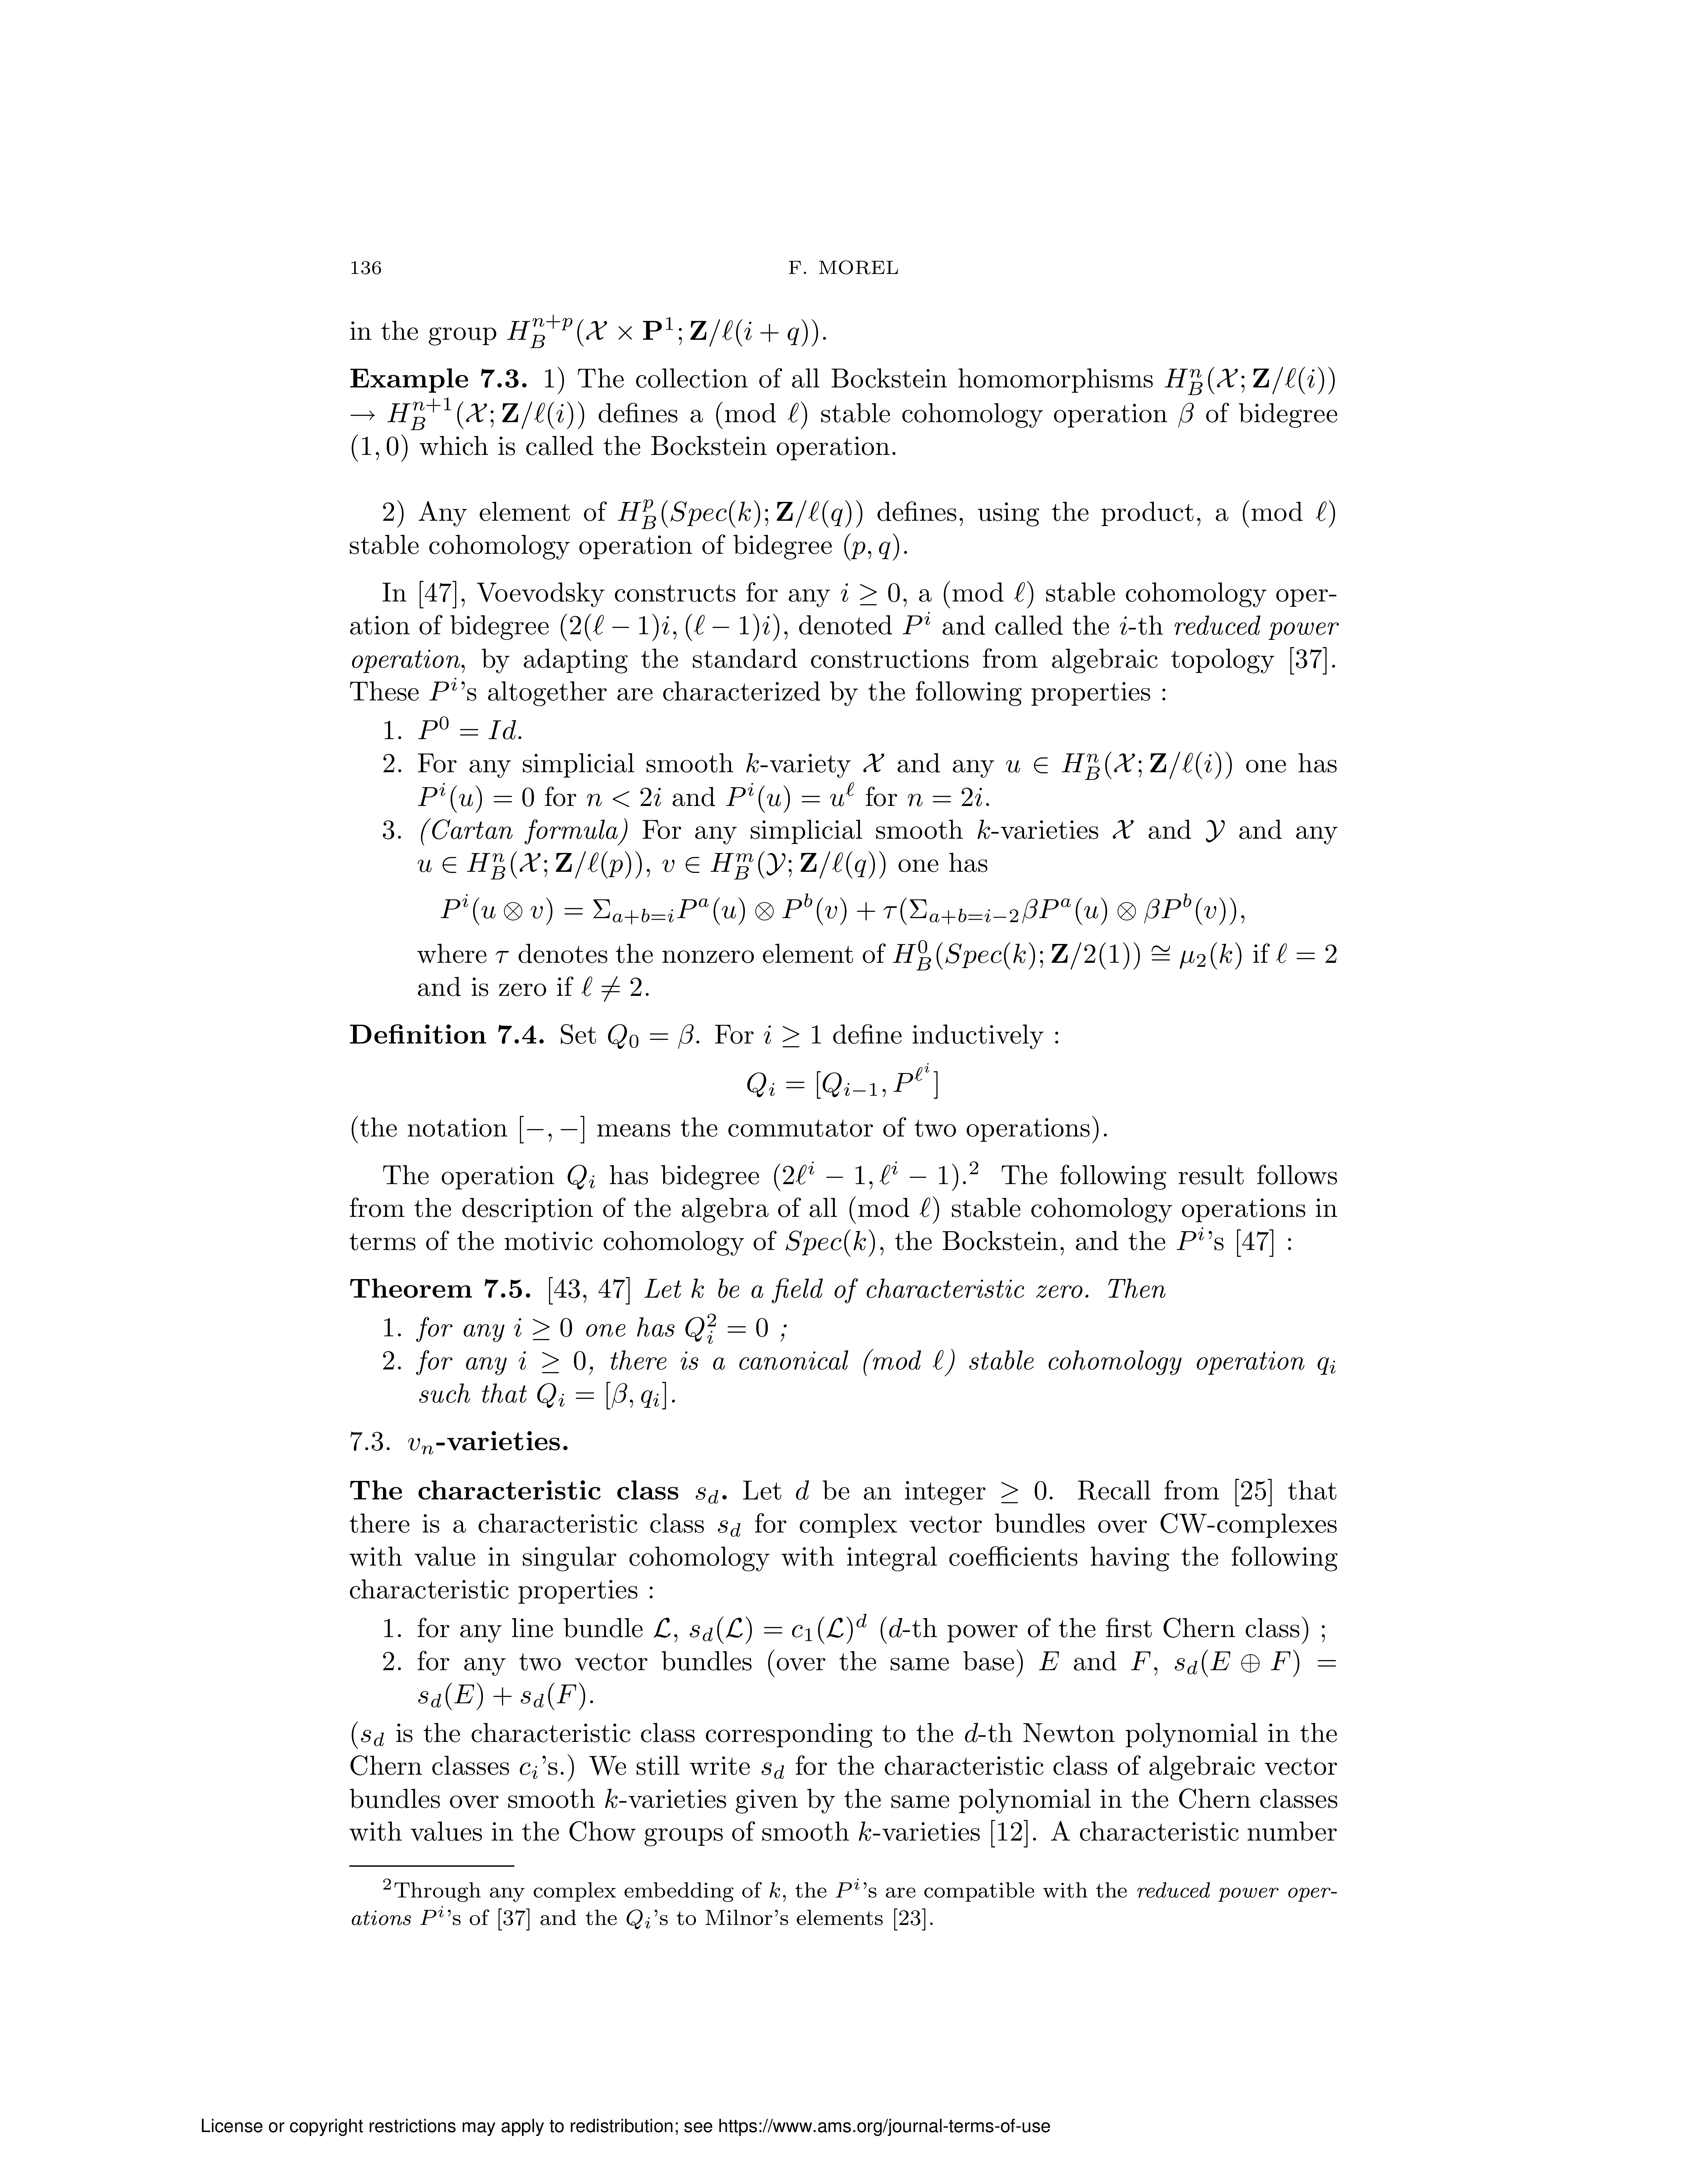expr: (321, 363, 1021, 436), (427, 911, 929, 1012), (645, 546, 1088, 620), (691, 1594, 1038, 1677), (222, 1283, 553, 1369), (402, 1131, 748, 1200), (152, 723, 468, 789), (250, 574, 620, 608), (820, 1686, 1219, 1712), (820, 1131, 952, 1200), (760, 1074, 1022, 1106), (519, 468, 744, 496), (331, 688, 548, 716), (1026, 1411, 1217, 1443), (1019, 1241, 1210, 1269), (152, 503, 342, 532), (452, 1076, 640, 1104), (266, 1076, 427, 1104), (828, 468, 999, 495), (1056, 271, 1214, 300), (606, 273, 769, 300), (578, 1041, 698, 1067), (897, 686, 1012, 713), (154, 688, 259, 716), (925, 273, 1030, 300), (533, 1558, 636, 1585), (638, 686, 734, 714), (920, 812, 1003, 844), (1113, 466, 1210, 493), (1067, 651, 1136, 674), (881, 1241, 945, 1266), (381, 1455, 452, 1477), (1125, 1610, 1184, 1634), (872, 647, 929, 672), (679, 1299, 727, 1326), (326, 1415, 365, 1445), (1171, 1381, 1217, 1406), (454, 1523, 496, 1549), (335, 1688, 372, 1716), (560, 1383, 599, 1409), (962, 1299, 999, 1324), (734, 746, 762, 766), (613, 1611, 638, 1633), (354, 470, 374, 496), (418, 1246, 439, 1268), (209, 275, 230, 294), (424, 652, 445, 672), (721, 1558, 742, 1578), (815, 817, 835, 837), (284, 1048, 303, 1062), (349, 826, 363, 844), (223, 1567, 236, 1587), (913, 1530, 923, 1548), (388, 860, 399, 874)
